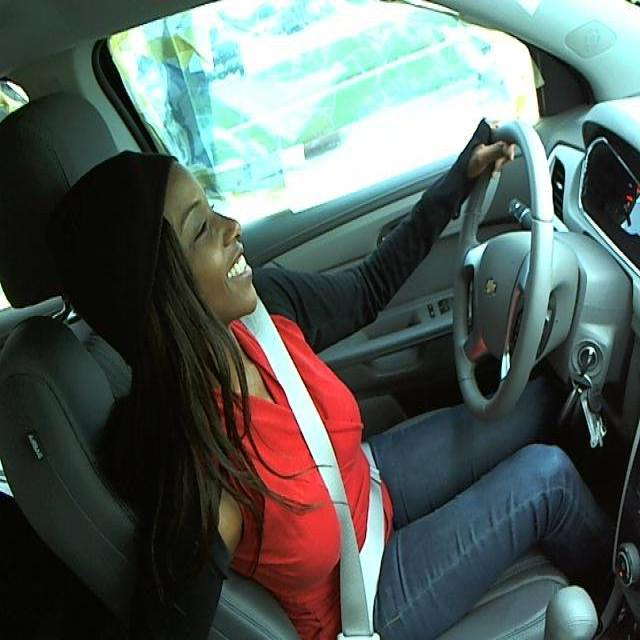seatbelt: (287, 372, 416, 623)
